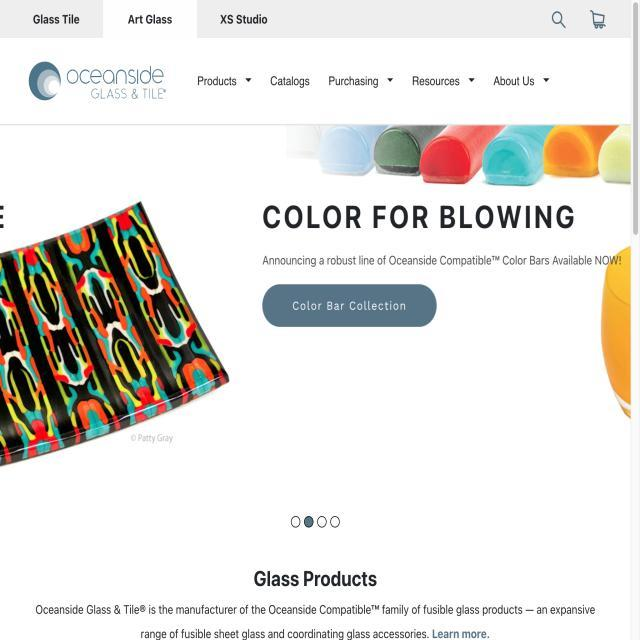button: (262, 281, 439, 329)
input field: (532, 7, 568, 33)
navigation bar: (183, 66, 555, 100)
